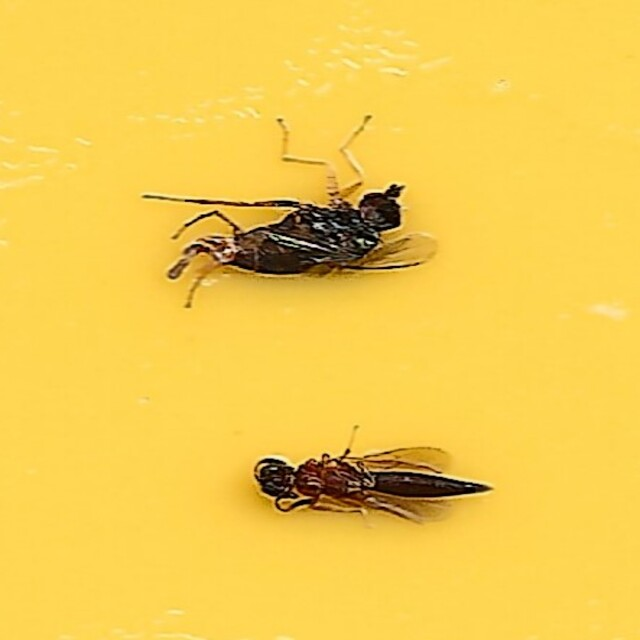Brachycera: (144, 114, 436, 309)
Hymenoptera: (247, 444, 496, 526)
